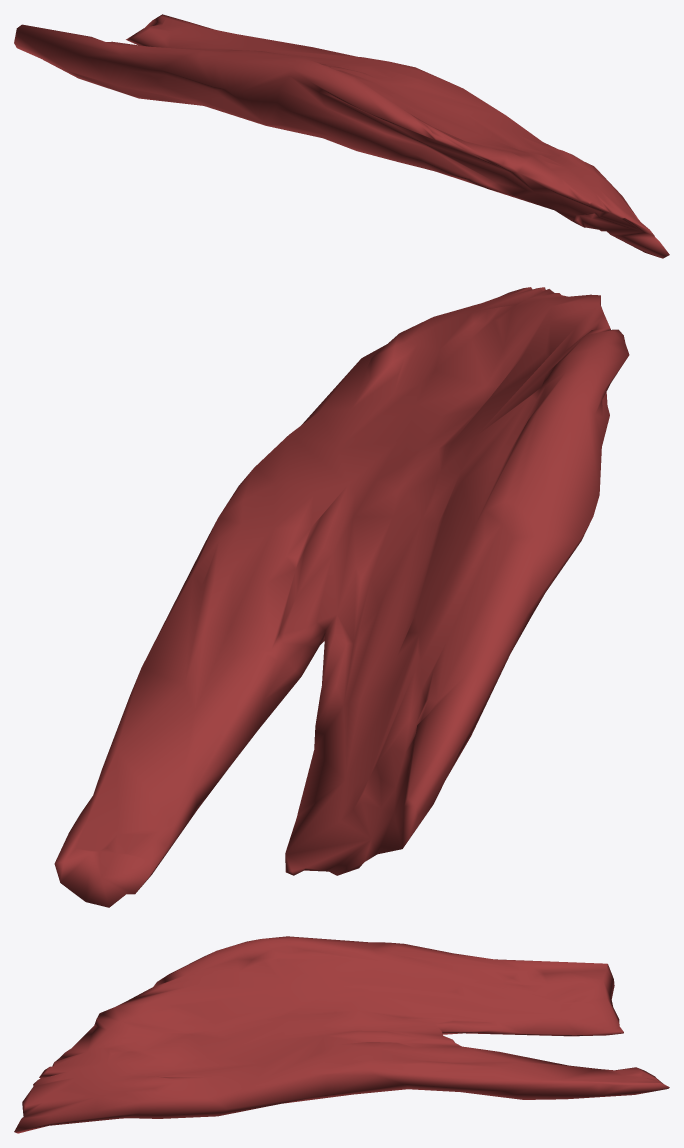
The model's file is quadratus-plantae-muscle-l.glb.
3 views of the same model, one above another, from view 1: azimuth 30°, elevation 25°; view 2: azimuth 150°, elevation 25°; view 3: azimuth 270°, elevation 25° (orthographic). The views are drawn at different scales.
Visible parts, largest first — view 1: Quadratus plantae muscle.l; view 2: Quadratus plantae muscle.l; view 3: Quadratus plantae muscle.l.
Part boxes in pixels (<box>): Quadratus plantae muscle.l: <box>14,14,669,258</box>; Quadratus plantae muscle.l: <box>54,287,629,907</box>; Quadratus plantae muscle.l: <box>14,936,669,1133</box>.
Bounding box in the file's own units: 0.0356 × 0.017 × 0.0768.
